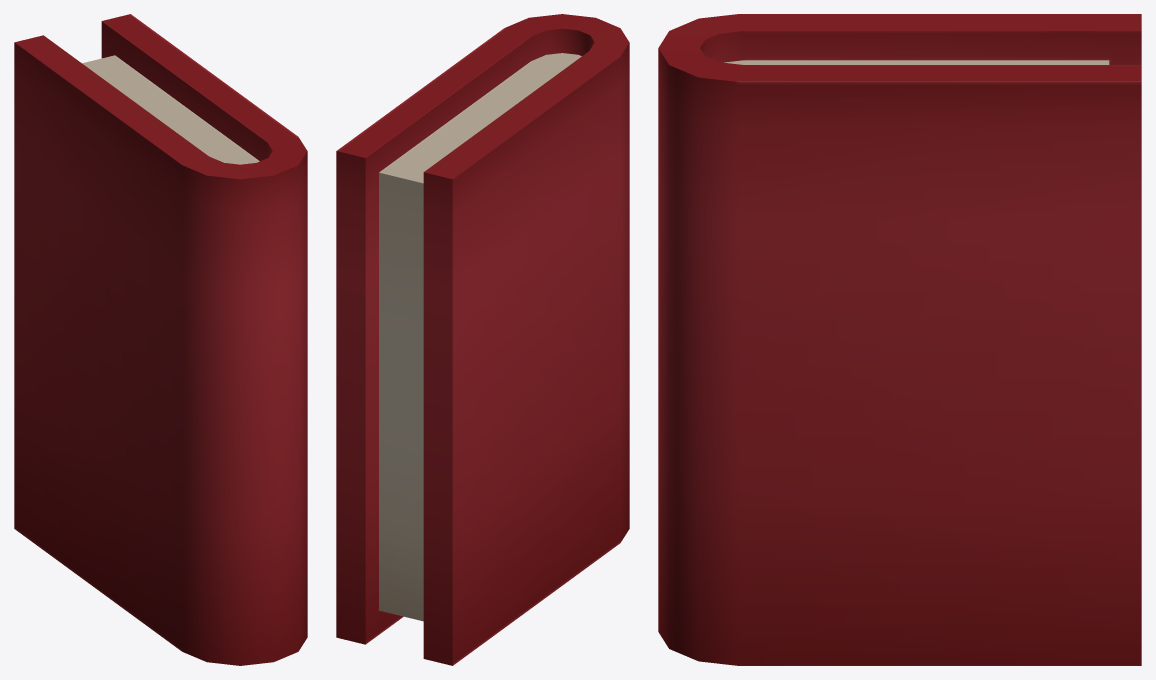
The model's file is BookRed.fbx.
3 views of the same model, side by side, from view 1: azimuth 30°, elevation 25°; view 2: azimuth 150°, elevation 25°; view 3: azimuth 270°, elevation 25° (orthographic). The views are drawn at different scales.
Visible parts, largest first — view 1: BookRed; view 2: BookRed; view 3: BookRed.
Boxes of the visible parts, <box> form: BookRed: <box>14,14,307,665</box>; BookRed: <box>336,14,629,665</box>; BookRed: <box>658,14,1141,665</box>.
Size of the model in its own units: 20 by 80 by 60.
